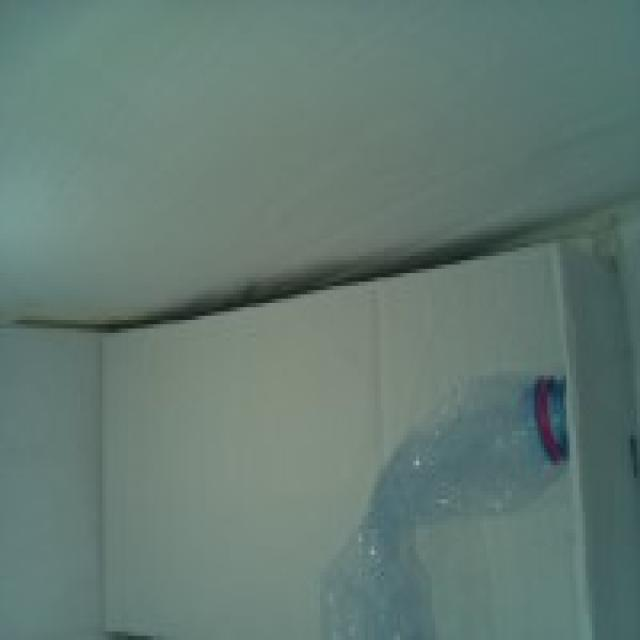Anorganik: (317, 371, 576, 640)
